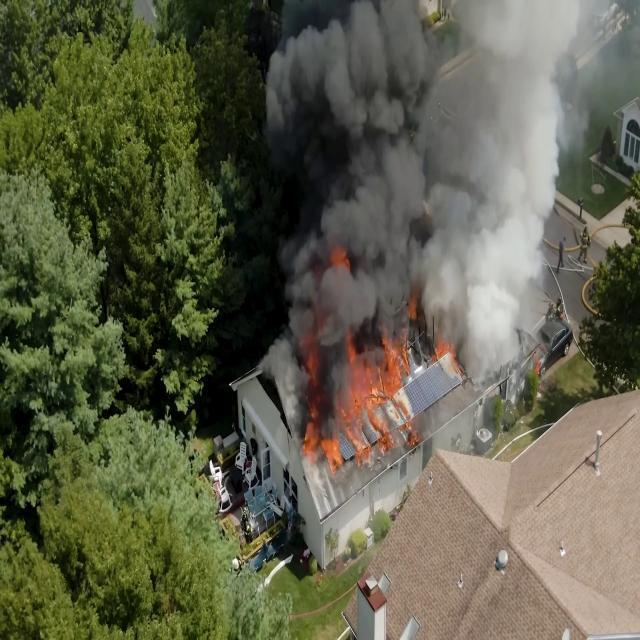Fire: (350, 346, 409, 413)
Smoke: (277, 0, 410, 286), (444, 0, 546, 314)
